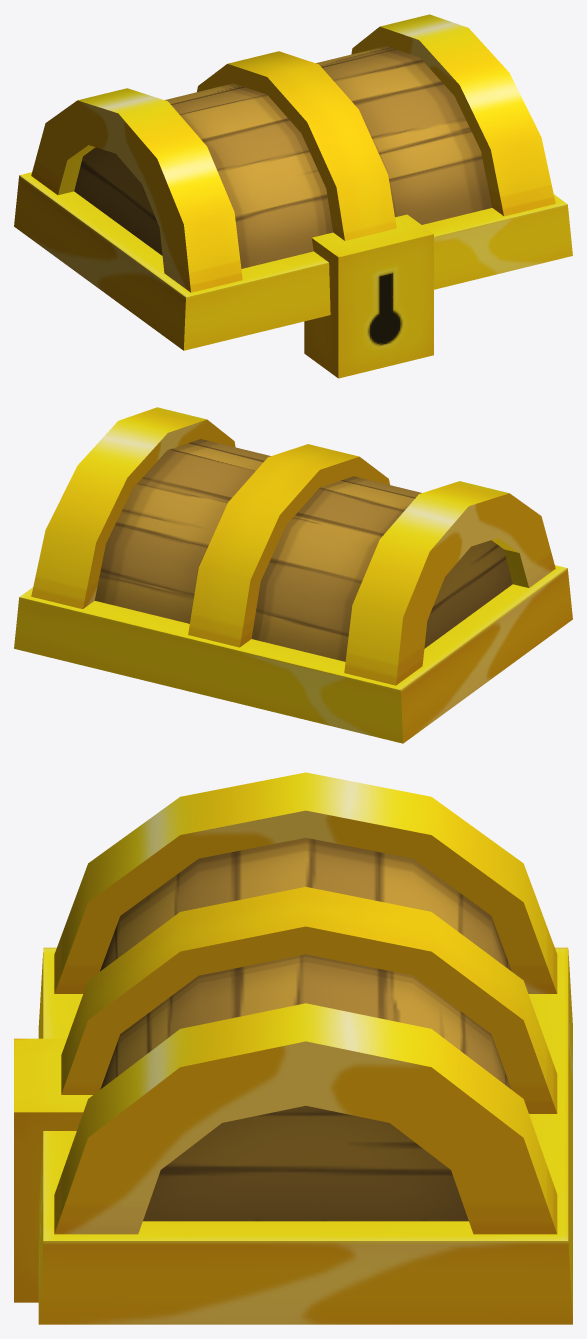
The model's file is Dg_01_TreasureBox_002.FBX.
The picture shows the model from 3 angles, top to bottom: view 1: azimuth 30°, elevation 25°; view 2: azimuth 150°, elevation 25°; view 3: azimuth 270°, elevation 25°; orthographic projection. The views are drawn at different scales.
Parts seen in each view (by area): view 1: Dg_01_TreasureBox_002; view 2: Dg_01_TreasureBox_002; view 3: Dg_01_TreasureBox_002.
Boxes of the visible parts, x1,y1,x2,y2 form: Dg_01_TreasureBox_002: (14, 14, 572, 378); Dg_01_TreasureBox_002: (14, 407, 572, 743); Dg_01_TreasureBox_002: (14, 772, 572, 1324).
Size of the model in its own units: 1.83 by 1.03 by 1.45.
